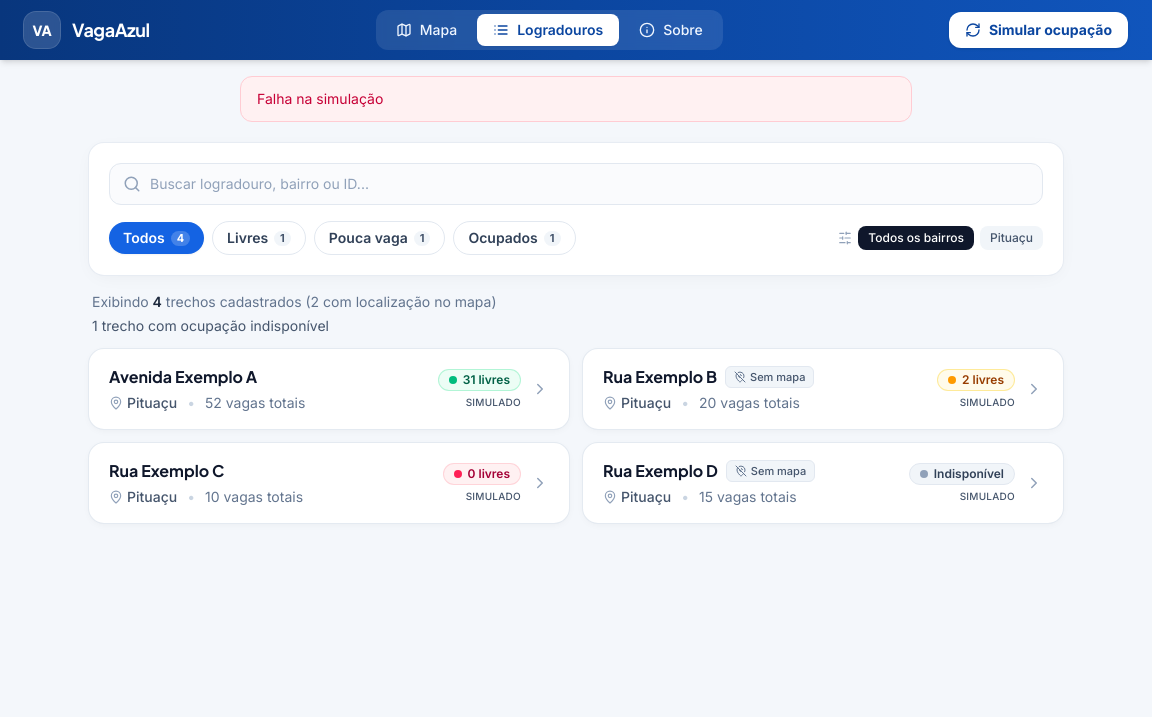
Navegação e listagem › Simulação coletiva de ocupação › informa falha na simulação e preserva os dados anteriores
Earlier steps of the test are not shown.
What coordinates should you click on to do the following:
click the heading "Avenida Exemplo A"
I would click on:
 (183, 377)
Its box is [109, 365, 257, 389].
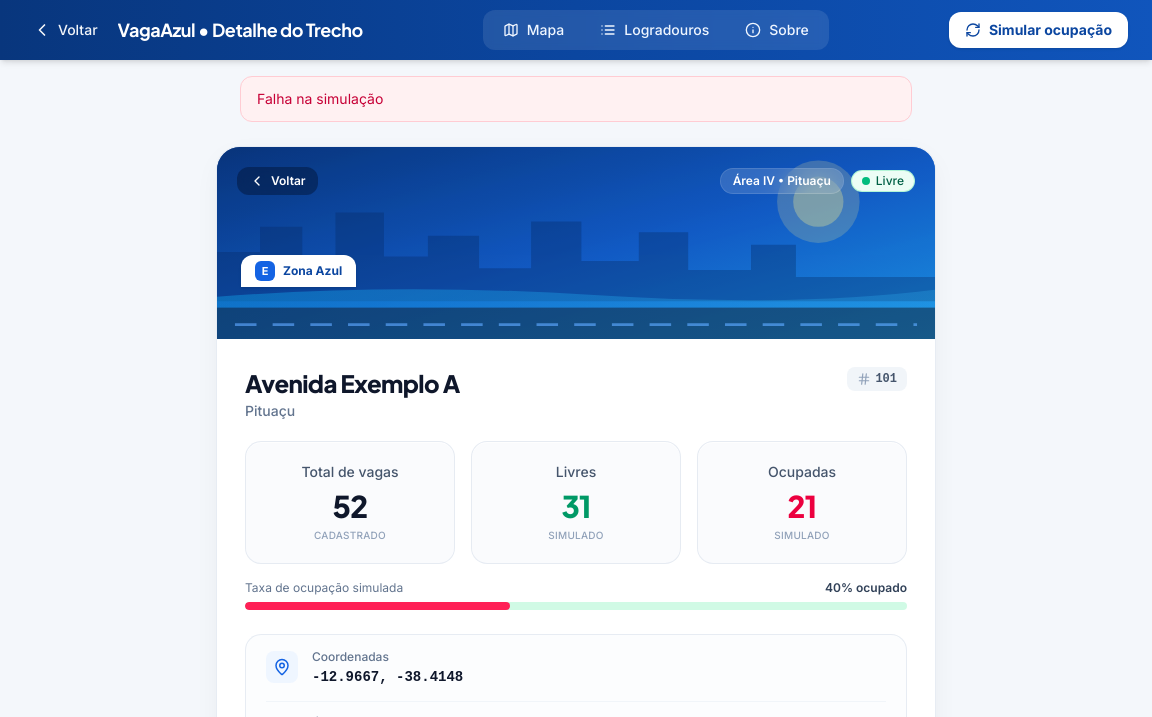
expect the element with test id "stat-ocupadas" shows "21": met, box [788, 487, 816, 525]
expect the element with test id "stat-livres" shows "31": met, box [561, 487, 591, 525]
